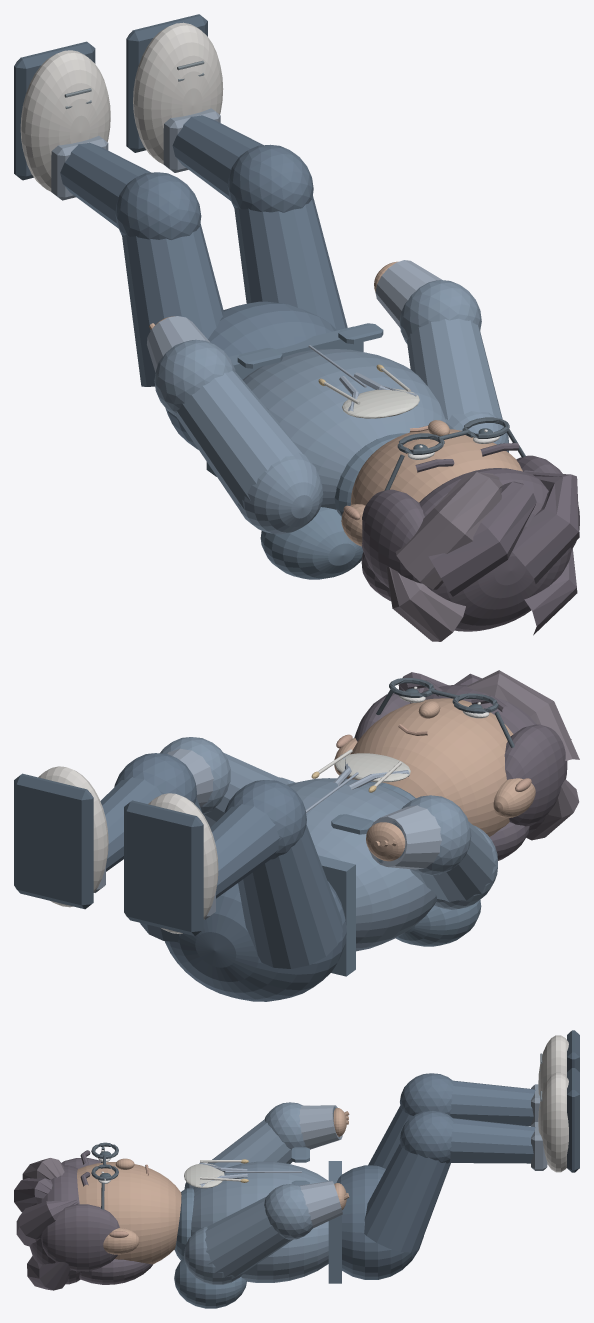
The model's file is ops_stand_0.glb.
3 renders of one model, top to bottom at view 1: azimuth 30°, elevation 25°; view 2: azimuth 150°, elevation 25°; view 3: azimuth 270°, elevation 25°, orthographic. The views are drawn at different scales.
Visible parts, largest first — view 1: 0000__hoodie_main_torso, 0065__jeans_thigh, 0046__jeans_thigh, 0057__sleeve_upper, 0050__sneaker, 0069__sneaker, 0076__sleeve_upper, 0022__hair_crown, 0017__face_head, 0026__hair_lock_0, 0027__hair_lock_1, 0014__pants_pelvis (+22 smaller); view 2: 0017__face_head, 0000__hoodie_main_torso, 0046__jeans_thigh, 0070__rubber_sole, 0051__rubber_sole, 0014__pants_pelvis, 0024__temple_side, 0048__jeans_shin, 0047__knee_fold, 0057__sleeve_upper, 0026__hair_lock_0, 0059__sleeve_forearm (+21 smaller); view 3: 0000__hoodie_main_torso, 0017__face_head, 0065__jeans_thigh, 0014__pants_pelvis, 0076__sleeve_upper, 0025__temple_side, 0067__jeans_shin, 0048__jeans_shin, 0069__sneaker, 0066__knee_fold, 0077__elbow_fold, 0057__sleeve_upper (+21 smaller).
Boxes of the visible parts, x1,y1,x2,y2 form: 0000__hoodie_main_torso: [243, 349, 445, 509]; 0065__jeans_thigh: [234, 196, 347, 330]; 0046__jeans_thigh: [122, 223, 223, 386]; 0057__sleeve_upper: [176, 370, 303, 510]; 0050__sneaker: [20, 50, 110, 191]; 0069__sneaker: [133, 22, 223, 164]; 0076__sleeve_upper: [407, 318, 502, 420]; 0022__hair_crown: [419, 468, 571, 631]; 0017__face_head: [351, 429, 522, 505]; 0026__hair_lock_0: [395, 472, 502, 589]; 0027__hair_lock_1: [428, 481, 536, 596]; 0014__pants_pelvis: [165, 301, 336, 449]; 0017__face_head: [346, 698, 513, 836]; 0000__hoodie_main_torso: [287, 778, 436, 951]; 0046__jeans_thigh: [238, 824, 343, 968]; 0070__rubber_sole: [14, 773, 93, 909]; 0051__rubber_sole: [124, 800, 203, 935]; 0014__pants_pelvis: [164, 881, 346, 1001]; 0024__temple_side: [504, 724, 567, 826]; 0048__jeans_shin: [210, 804, 279, 898]; 0047__knee_fold: [224, 780, 306, 859]; 0057__sleeve_upper: [410, 821, 496, 902]; 0026__hair_lock_0: [467, 670, 579, 760]; 0059__sleeve_forearm: [368, 805, 441, 869]; 0000__hoodie_main_torso: [191, 1161, 328, 1282]; 0017__face_head: [77, 1162, 181, 1264]; 0065__jeans_thigh: [364, 1143, 450, 1252]; 0014__pants_pelvis: [336, 1165, 423, 1279]; 0076__sleeve_upper: [205, 1196, 292, 1277]; 0025__temple_side: [41, 1204, 119, 1271]; 0067__jeans_shin: [449, 1118, 535, 1163]; 0048__jeans_shin: [450, 1080, 535, 1125]; 0069__sneaker: [538, 1072, 568, 1172]; 0066__knee_fold: [399, 1110, 453, 1163]; 0077__elbow_fold: [264, 1184, 312, 1239]; 0057__sleeve_upper: [207, 1119, 292, 1167].
Size of the model in its own units: 0.816 by 0.8228 by 1.85.
